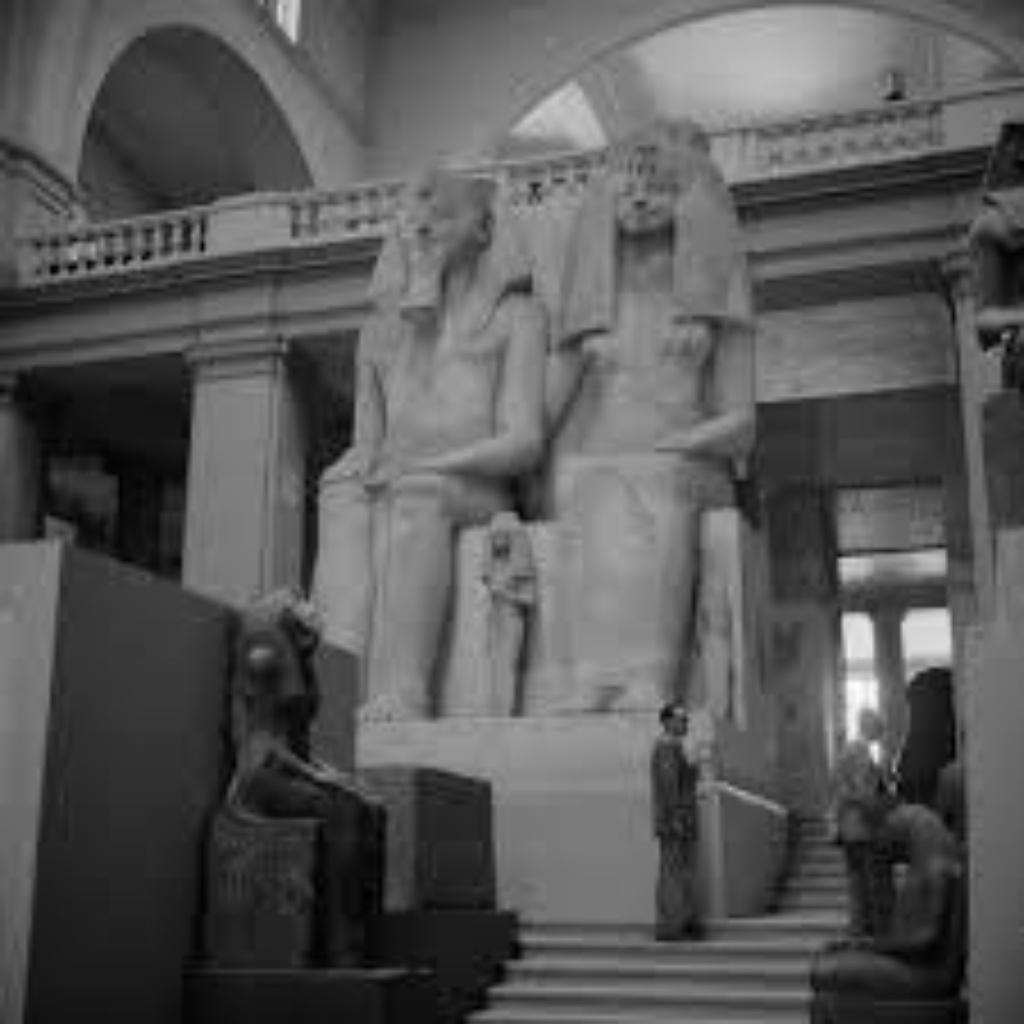Amenhotep III and Tiye: (310, 161, 758, 722)
